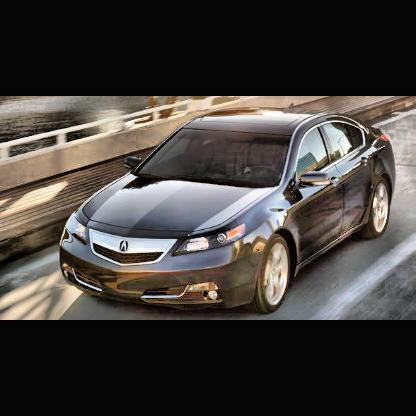Acura TL Sedan 2012: (60, 105, 398, 315)
